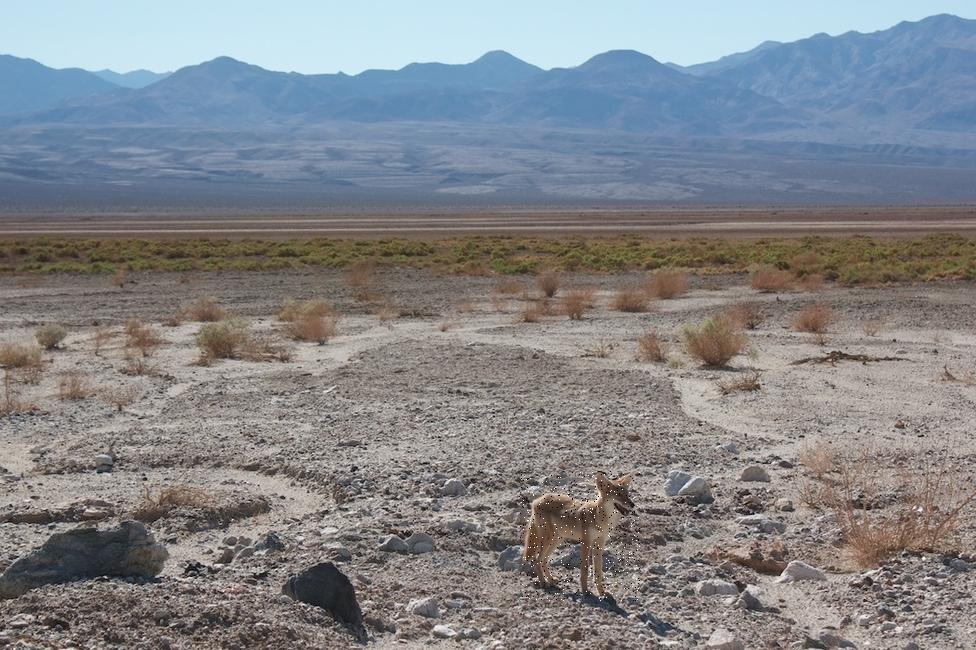Coyote: (521, 472, 641, 602)
